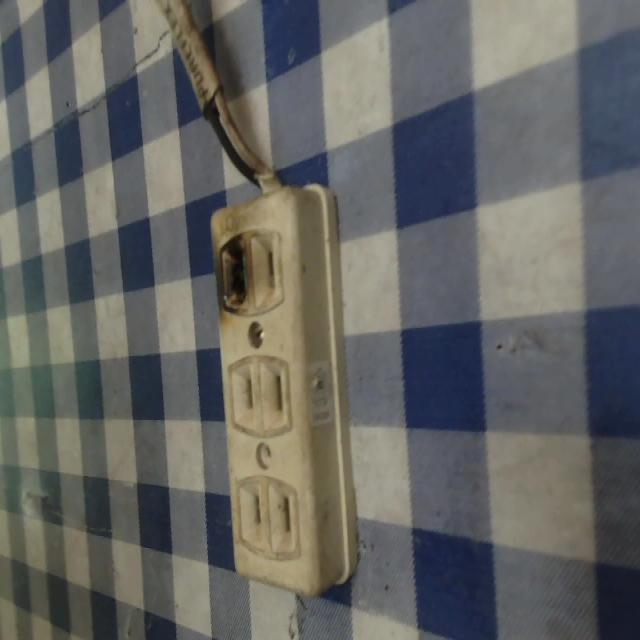-: (211, 233, 257, 316)
